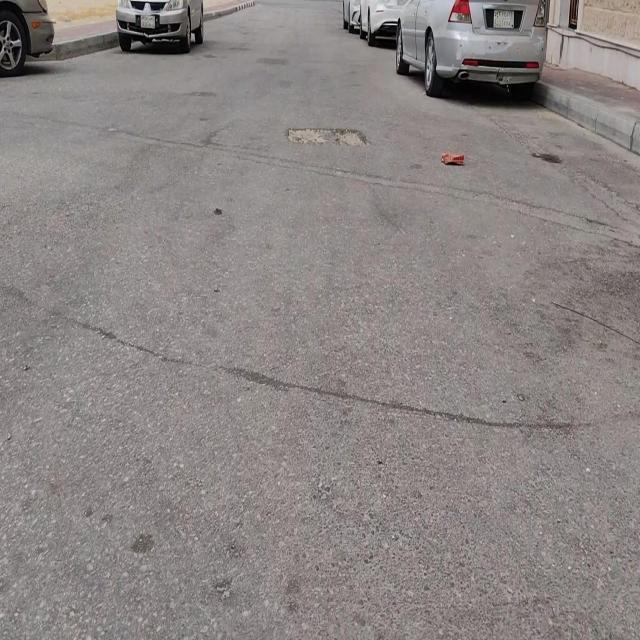Potholes: (288, 125, 369, 149)
